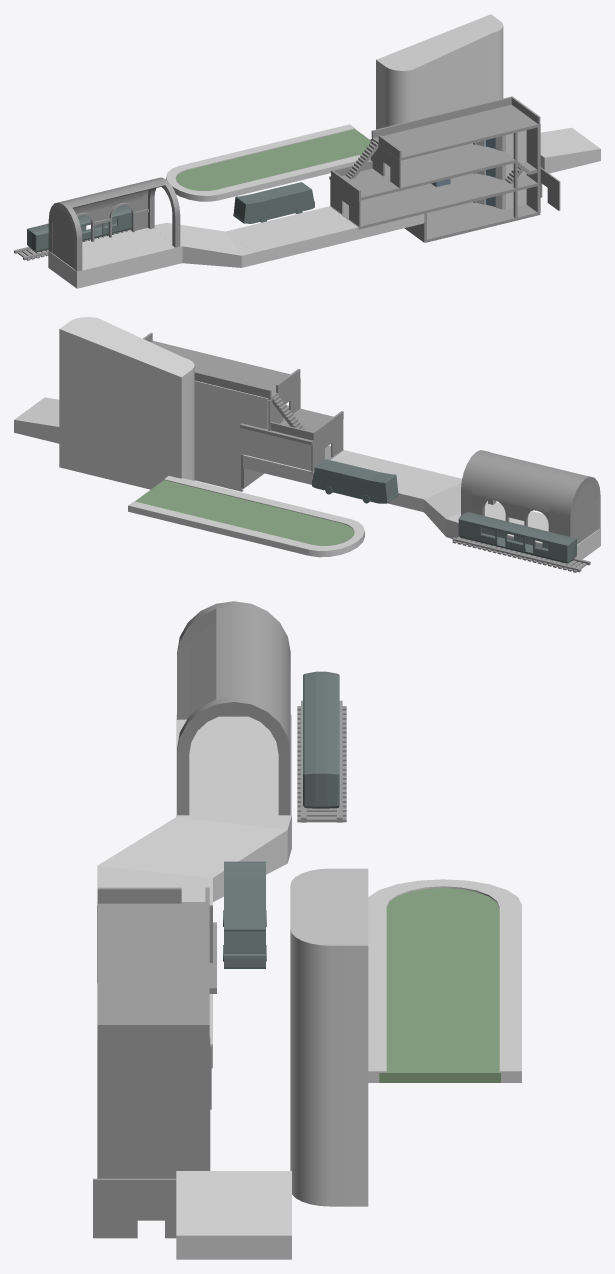
The model's file is Hub Blockout Modular.fbx.
3 views of the same model, one above another, from view 1: azimuth 30°, elevation 25°; view 2: azimuth 150°, elevation 25°; view 3: azimuth 270°, elevation 25° (orthographic). The views are drawn at different scales.
Parts seen in each view (by area): view 1: MainOffice, BGbuilding, GrassField, Pathway, StationMiddleWall2, StationLeftWall, Ramp, StationMiddleWall1, Bus, SpareRamp, StationRightWall, Train (+2 smaller); view 2: BGbuilding, MainOffice, GrassField, StationLeftWall, Train, StationMiddleWall2, Bus, Pathway, StationMiddleWall1, Ramp, SpareRamp, StationRightWall (+1 smaller); view 3: MainOffice, GrassField, BGbuilding, SpareRamp, Ramp, StationMiddleWall2, StationLeftWall, StationRightWall, StationMiddleWall1, Train, Bus, SpareWall (+2 smaller).
Boxes of the visible parts, box(x1,y1,x2,y2) form: MainOffice: box(329, 96, 540, 242); BGbuilding: box(376, 14, 503, 129); GrassField: box(166, 124, 370, 201); Pathway: box(226, 206, 361, 264); StationMiddleWall2: box(100, 181, 169, 275); StationLeftWall: box(48, 198, 96, 288); Ramp: box(154, 222, 255, 267); StationMiddleWall1: box(69, 190, 129, 285); Bus: box(233, 182, 314, 223); SpareRamp: box(540, 127, 600, 173); StationRightWall: box(133, 177, 180, 268); Train: box(27, 205, 131, 251); BGbuilding: box(59, 317, 194, 489); MainOffice: box(143, 332, 343, 491); GrassField: box(128, 476, 364, 557); StationLeftWall: box(549, 473, 600, 566); Train: box(458, 512, 576, 563); StationMiddleWall2: box(472, 453, 544, 551); Bus: box(312, 459, 398, 503); Pathway: box(310, 450, 453, 511); StationMiddleWall1: box(515, 463, 577, 562); Ramp: box(423, 477, 488, 538); SpareRamp: box(14, 397, 59, 443); StationRightWall: box(461, 450, 503, 542); MainOffice: box(97, 887, 216, 1220); GrassField: box(368, 879, 521, 1082); BGbuilding: box(290, 868, 368, 1206); SpareRamp: box(176, 1171, 291, 1259); Ramp: box(97, 814, 291, 901); StationMiddleWall2: box(176, 651, 291, 805); StationLeftWall: box(176, 601, 291, 733); StationRightWall: box(176, 683, 291, 848); StationMiddleWall1: box(176, 612, 291, 765); Train: box(303, 671, 339, 808); Bus: box(223, 861, 266, 968); SpareWall: box(93, 1178, 176, 1238).
Size of the model in its own units: 116 by 30.42 by 39.35.
